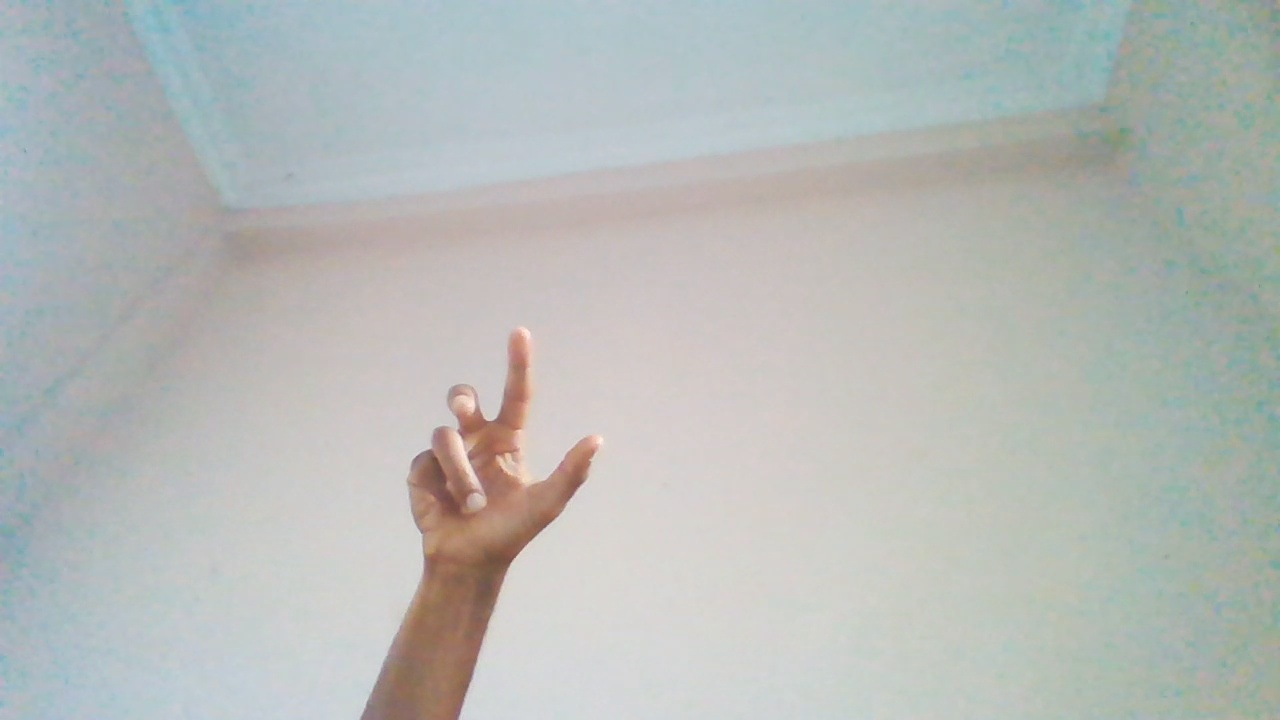hhe: (406, 322, 602, 664)
